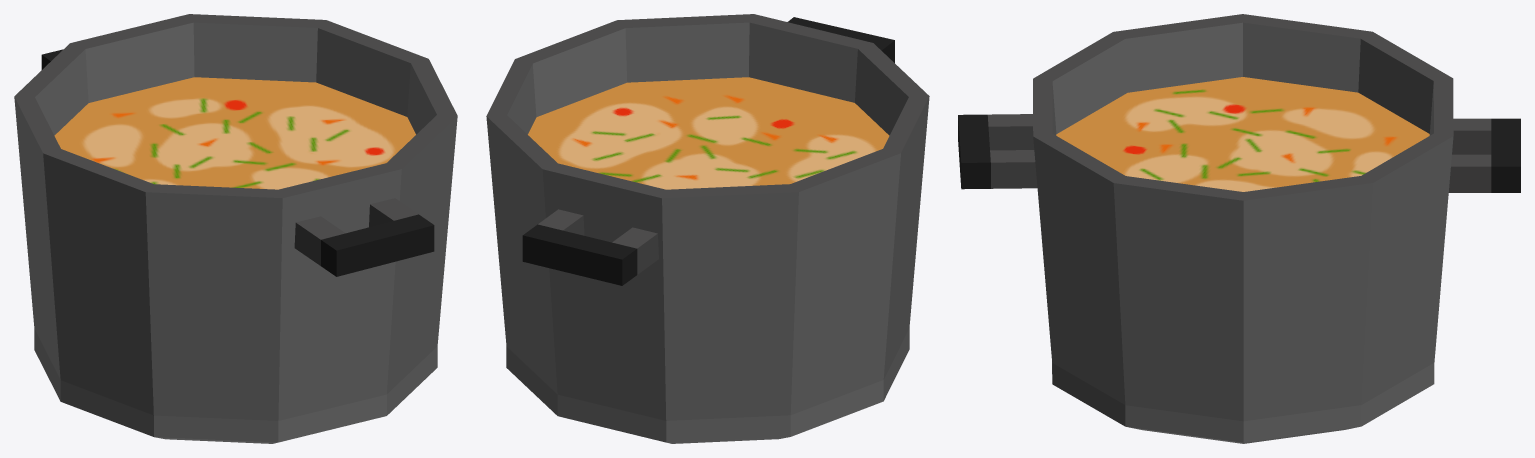
Rendered from Soup.fbx.
3 renders of one model, left to right at view 1: azimuth 30°, elevation 25°; view 2: azimuth 150°, elevation 25°; view 3: azimuth 270°, elevation 25°, orthographic.
Parts seen in each view (by area): view 1: Cylinder; view 2: Cylinder; view 3: Cylinder.
Boxes of the visible parts, left/top/right/bottom form: Cylinder: left=14, top=14, right=457, bottom=443; Cylinder: left=486, top=14, right=929, bottom=443; Cylinder: left=958, top=14, right=1520, bottom=443.
Bounding box in the file's own units: 220 × 145 × 280.
1 material, 1 textured.
